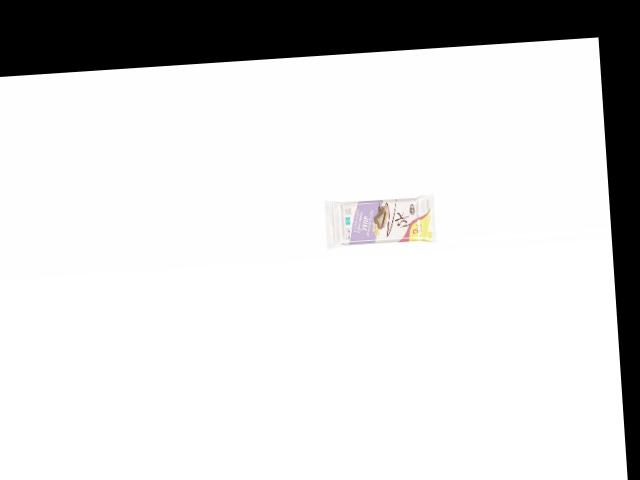chocolate: (322, 189, 440, 252)
